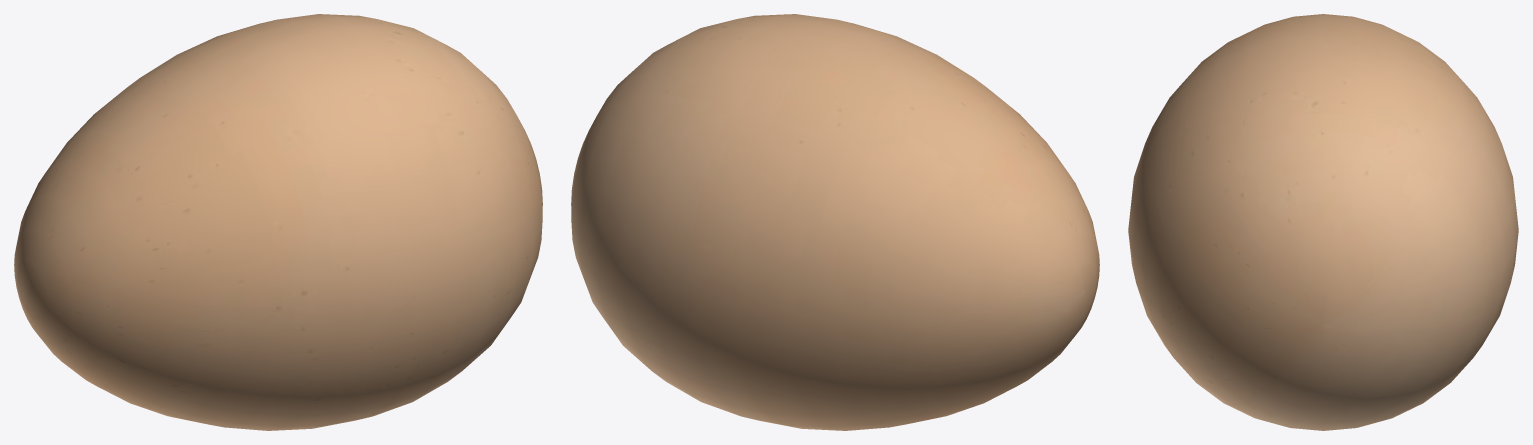
File: egg.glb
The picture shows the model from 3 angles, left to right: view 1: azimuth 30°, elevation 25°; view 2: azimuth 150°, elevation 25°; view 3: azimuth 270°, elevation 25°; orthographic projection. The views are drawn at different scales.
Parts seen in each view (by area): view 1: egg_mesh; view 2: egg_mesh; view 3: egg_mesh.
Part boxes in pixels (box(x1,y1,x2,y2)): egg_mesh: box(14, 14, 542, 430); egg_mesh: box(571, 14, 1099, 430); egg_mesh: box(1128, 14, 1518, 430).
Bounding box in the file's own units: 0.06 × 0.0436 × 0.0436.
1 material, 1 textured.
